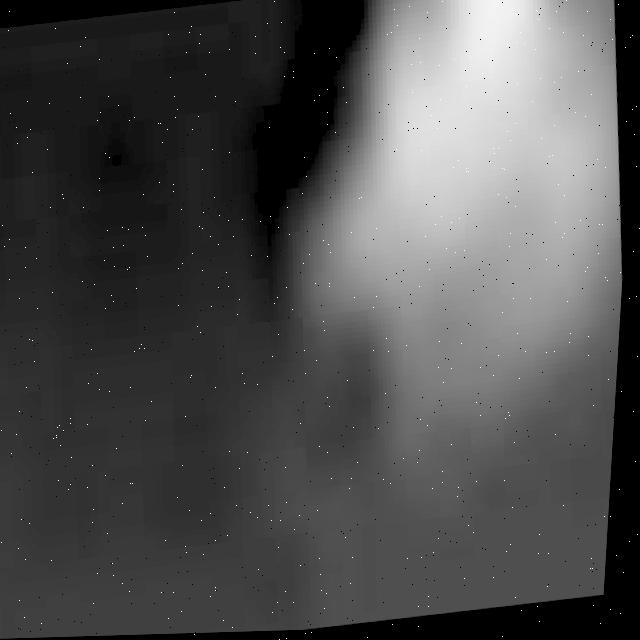person: (287, 1, 640, 464)
